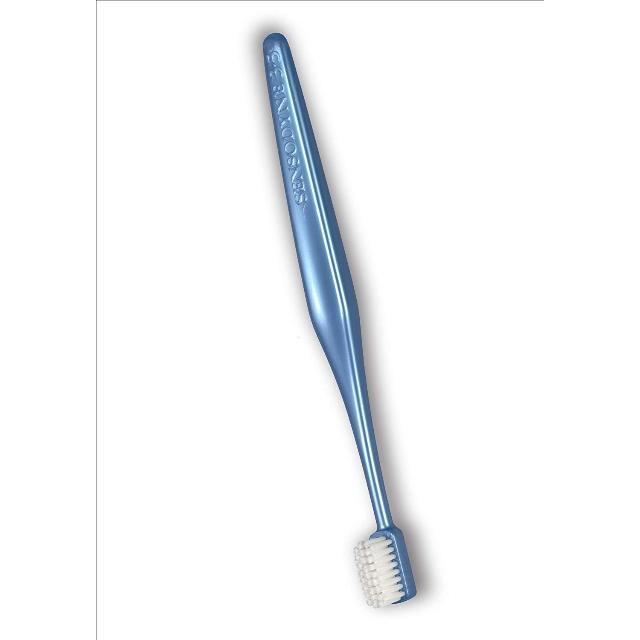toothbrush: (238, 19, 442, 613)
